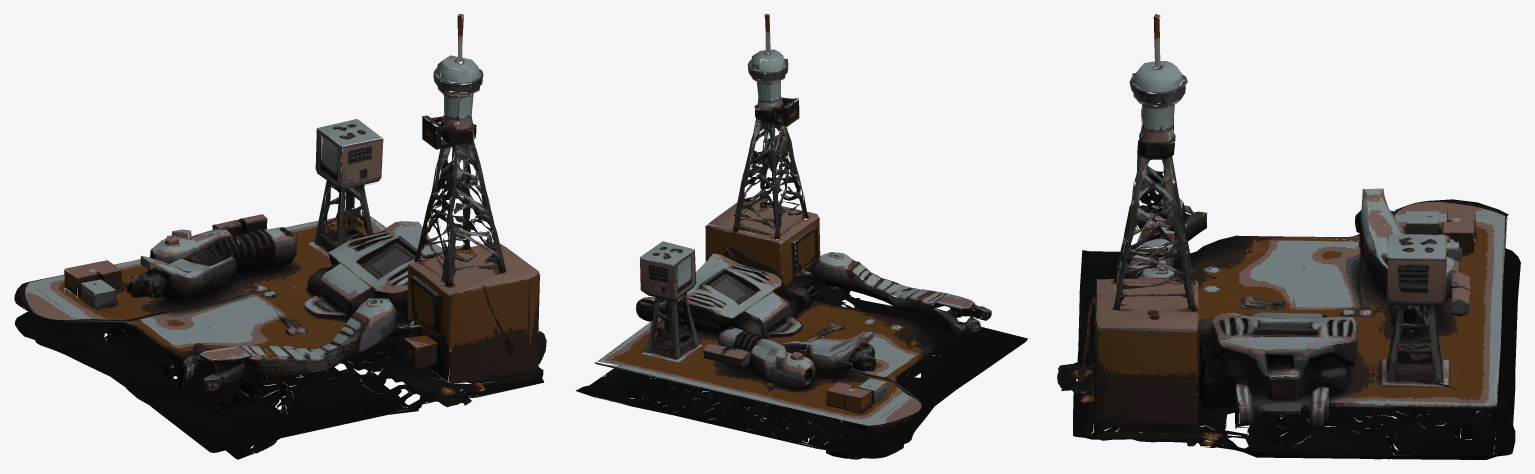
The model's file is signal.glb.
3 views of the same model, side by side, from view 1: azimuth 30°, elevation 25°; view 2: azimuth 150°, elevation 25°; view 3: azimuth 270°, elevation 25° (orthographic). The views are drawn at different scales.
Visible parts, largest first — view 1: signal; view 2: signal; view 3: signal.
Boxes of the visible parts, x1,y1,x2,y2 form: signal: (14,14,546,459); signal: (575,14,1027,459); signal: (1057,14,1520,459).
Bounding box in the file's own units: 2.6 × 2.6 × 2.37.
Materials: 1 (1 with a texture image).
